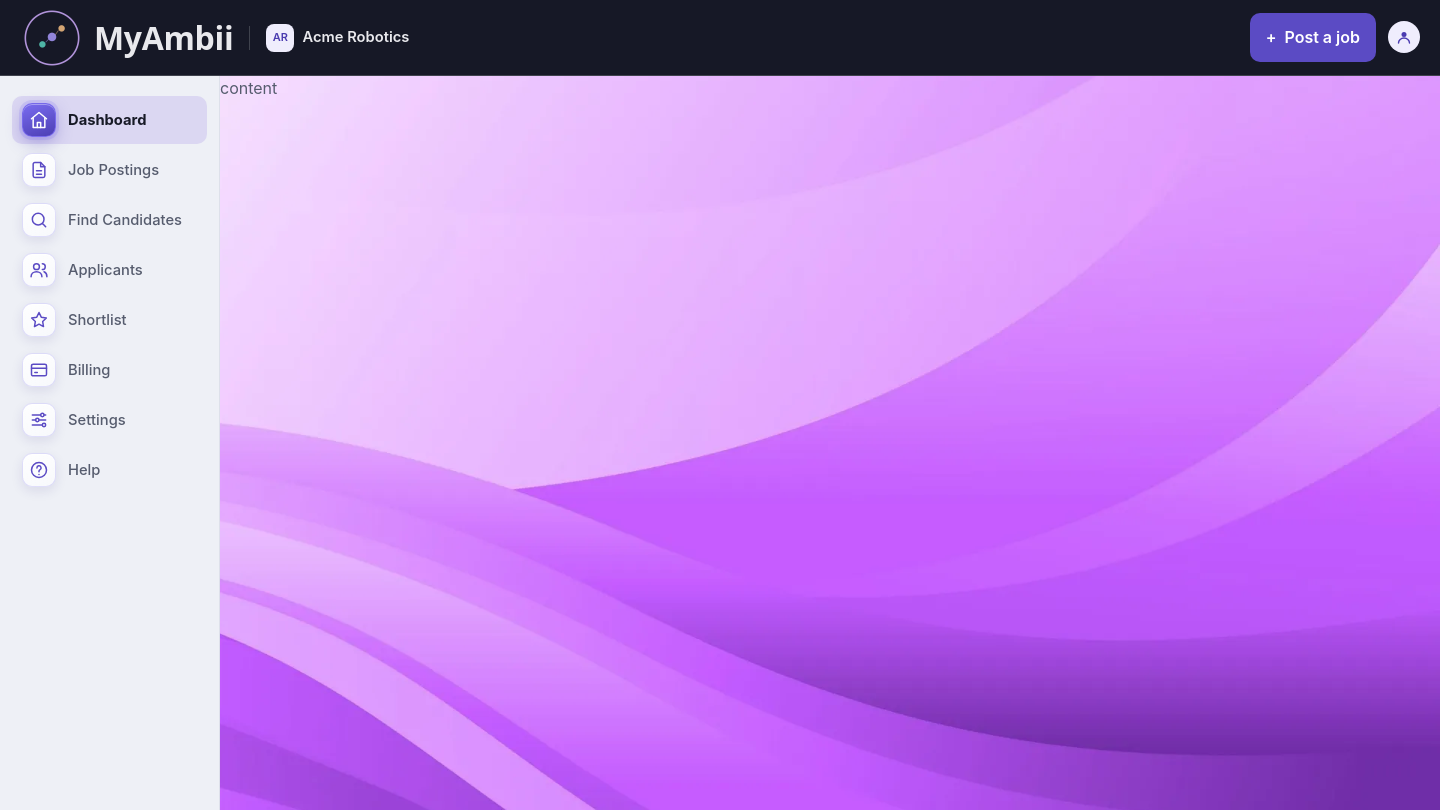
Test: EmployerSidebarShell — account menu › contains Settings, Billing, Team members and Log out
This screenshot has width=1440, height=810.
Click the button named "Acme Robotics menu" at (1404, 38), box [1388,22,1420,54]
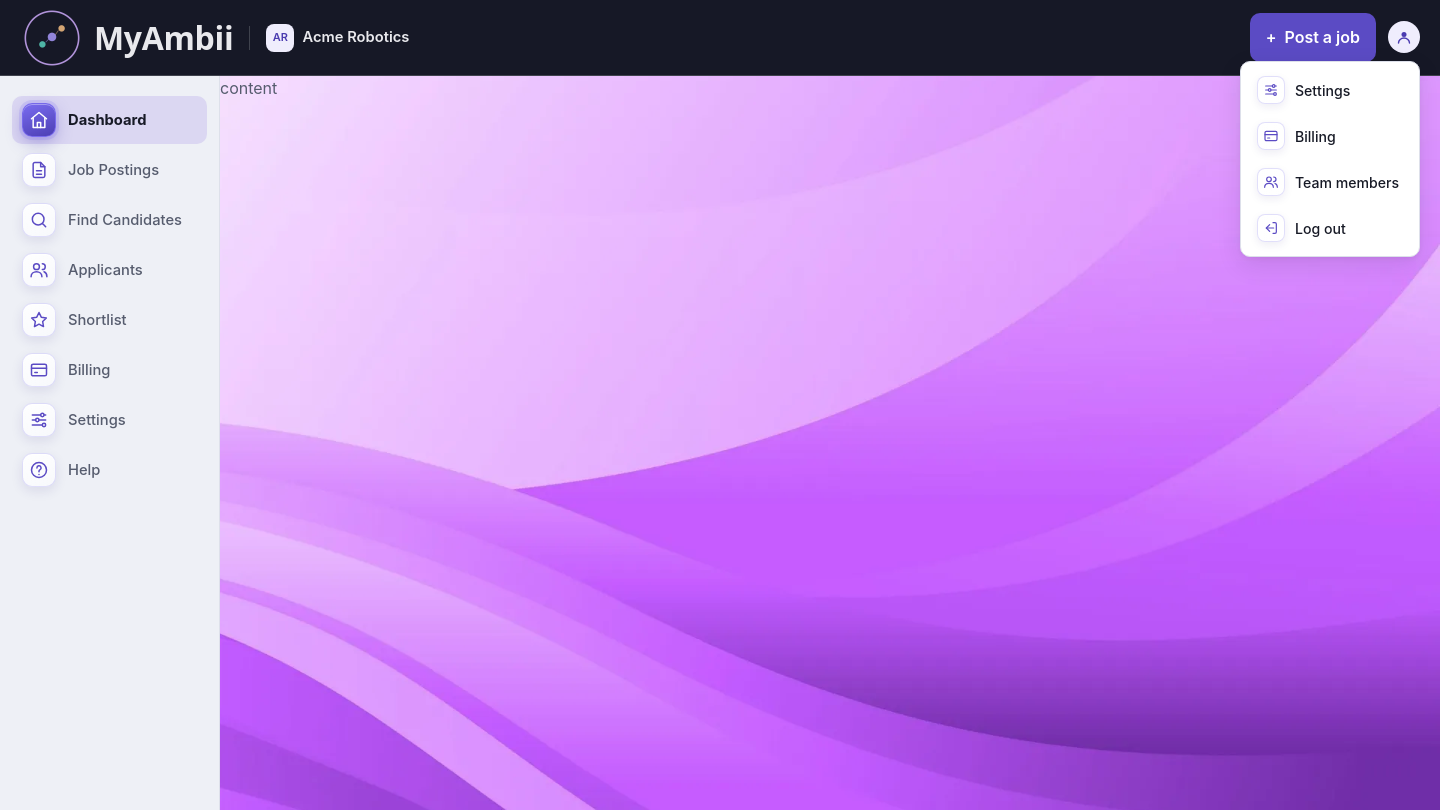
Result: the menu item "Log out" is shown at [1247,206,1413,250]
